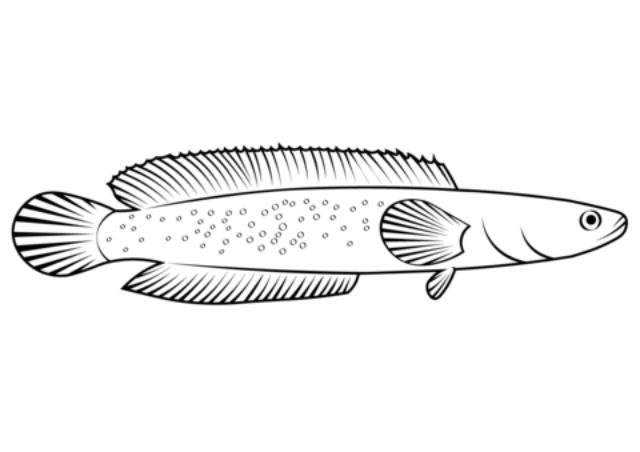Mulut: (587, 210, 633, 262)
Sirip Anal: (119, 256, 363, 304)
Sirip Dada: (379, 198, 471, 268)
Sirip Ekor: (6, 182, 120, 282)
Sirip Perut: (418, 264, 460, 311)
Sirip Punggung: (105, 140, 462, 212)
